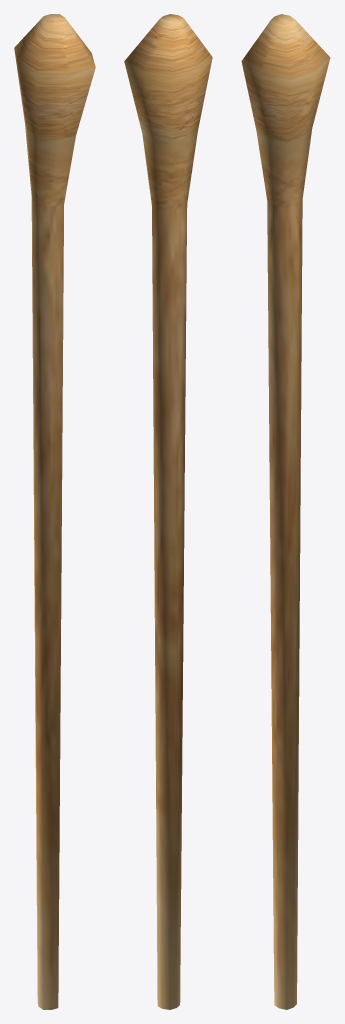
The model's file is macana_02.dae.
The picture shows the model from 3 angles, left to right: view 1: azimuth 30°, elevation 25°; view 2: azimuth 150°, elevation 25°; view 3: azimuth 330°, elevation 25°; orthographic projection.
Visible parts, largest first — view 1: a_weaon_macana_02; view 2: a_weaon_macana_02; view 3: a_weaon_macana_02.
Boxes of the visible parts, x1=… form: a_weaon_macana_02: x1=14, y1=14, x2=95, y2=1009; a_weaon_macana_02: x1=124, y1=14, x2=212, y2=1009; a_weaon_macana_02: x1=241, y1=14, x2=330, y2=1009.
Bounding box in the file's own units: 0.31 × 0.3206 × 4.36.
